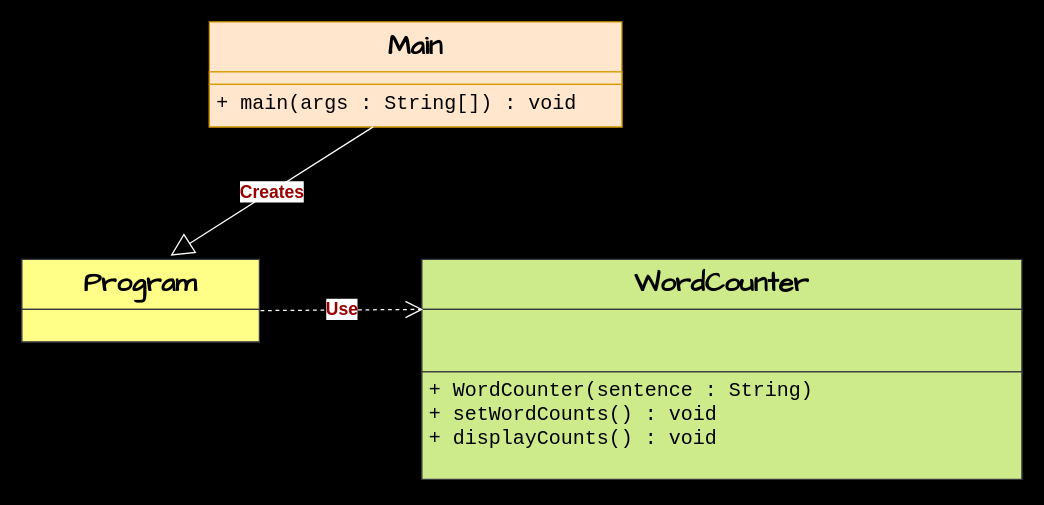
The diagram is 1044 pixels wide and 505 high, and some of its shapes have lost their labels. Each missing label, with the centre of its shape:
+ run() : void: the point at 140,325
- wordCounts : Map<String,Integer> - sentence : String: the point at 721,340
